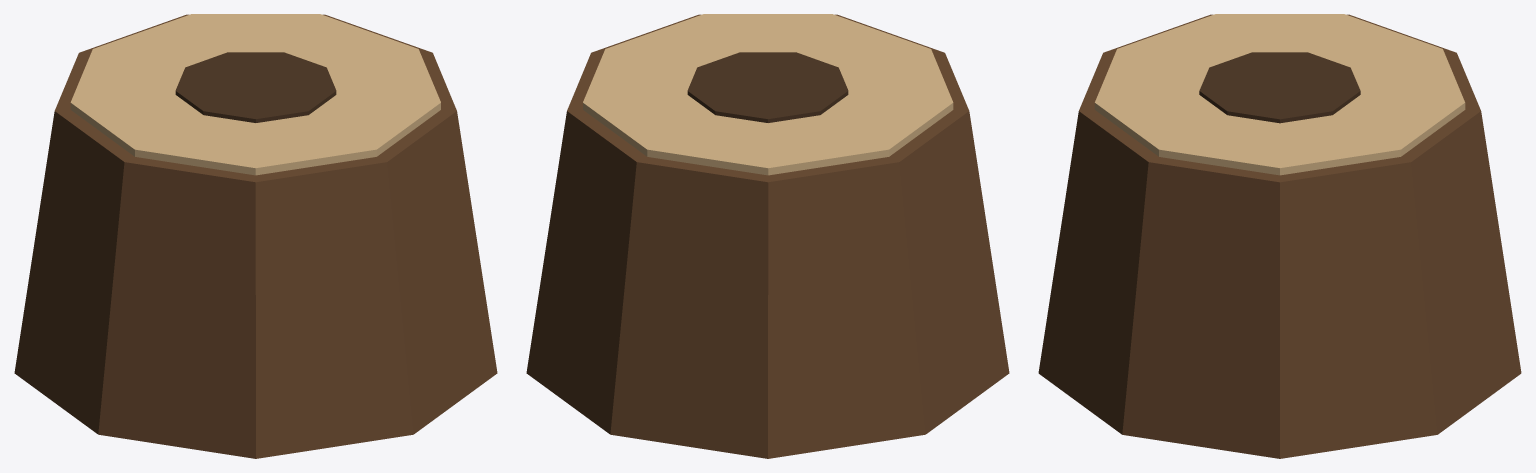
The model's file is stump.glb.
3 renders of one model, left to right at view 1: azimuth 30°, elevation 25°; view 2: azimuth 150°, elevation 25°; view 3: azimuth 270°, elevation 25°, orthographic.
Parts seen in each view (by area): view 1: stump; view 2: stump; view 3: stump.
Part boxes in pixels (box(x1,y1,x2,y2)): stump: box(14, 14, 497, 458); stump: box(526, 14, 1009, 458); stump: box(1038, 14, 1521, 458).
Size of the model in its own units: 1.16 by 0.7305 by 1.18.
